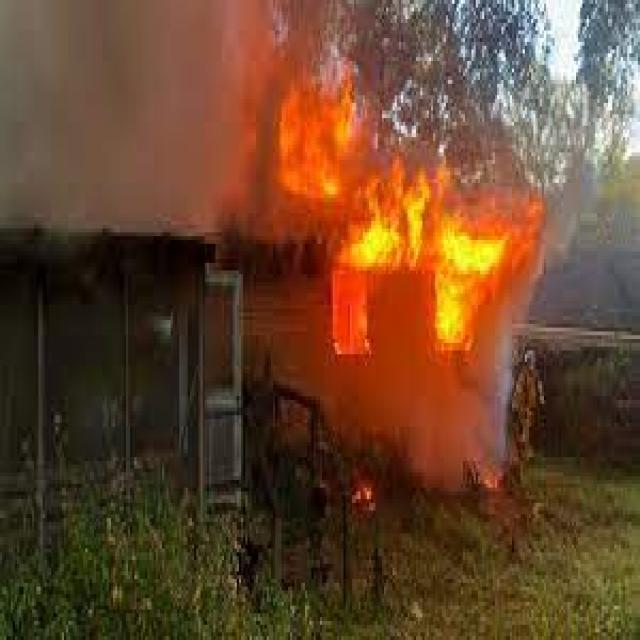Fire: (292, 96, 545, 382), (213, 0, 311, 236)
Smoke: (2, 0, 222, 240), (529, 179, 640, 324)
